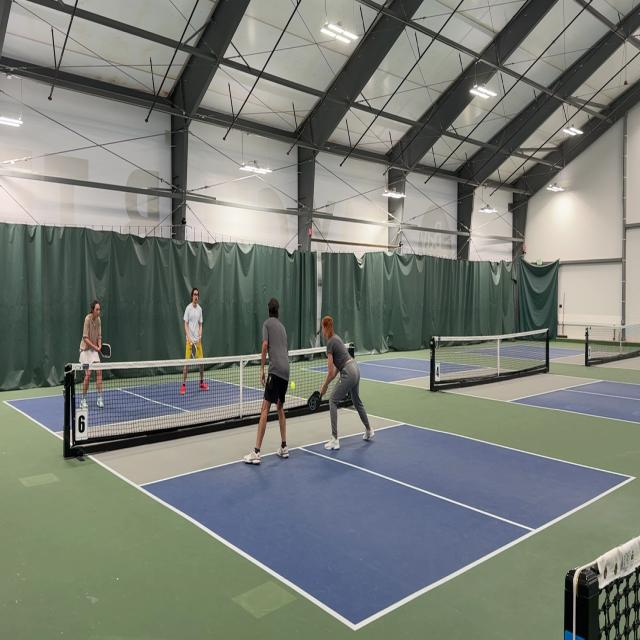ball: (290, 381, 296, 390)
